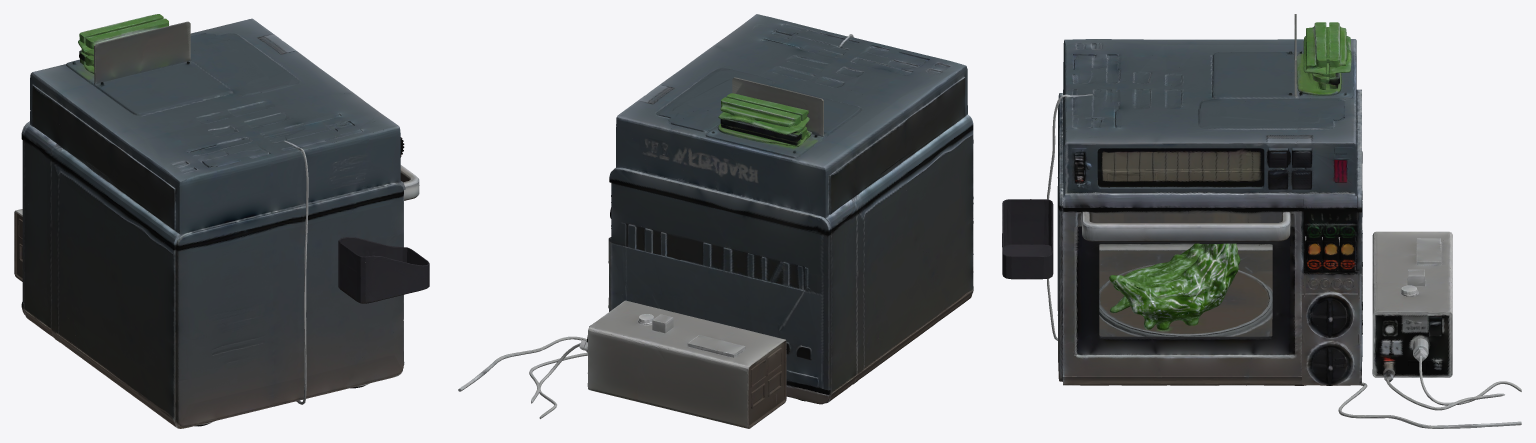
The model's file is time_machine.glb.
3 renders of one model, left to right at view 1: azimuth 30°, elevation 25°; view 2: azimuth 150°, elevation 25°; view 3: azimuth 270°, elevation 25°, orthographic. The views are drawn at different scales.
Visible parts, largest first — view 1: tripo_node_3e18205d-1cd6-47af-b0a1-1f1a0b9cdbd2; view 2: tripo_node_3e18205d-1cd6-47af-b0a1-1f1a0b9cdbd2; view 3: tripo_node_3e18205d-1cd6-47af-b0a1-1f1a0b9cdbd2.
Part boxes in pixels (bbox=[...]): tripo_node_3e18205d-1cd6-47af-b0a1-1f1a0b9cdbd2: bbox=[14, 14, 429, 428]; tripo_node_3e18205d-1cd6-47af-b0a1-1f1a0b9cdbd2: bbox=[458, 14, 973, 428]; tripo_node_3e18205d-1cd6-47af-b0a1-1f1a0b9cdbd2: bbox=[1002, 14, 1521, 428].
Size of the model in its own units: 0.6834 by 0.6217 by 1.
1 material, 1 textured.
